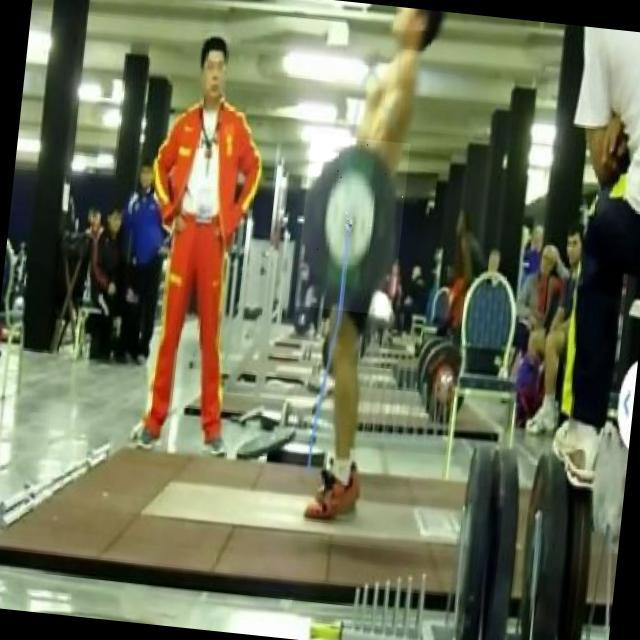barbell: (295, 135, 411, 317)
